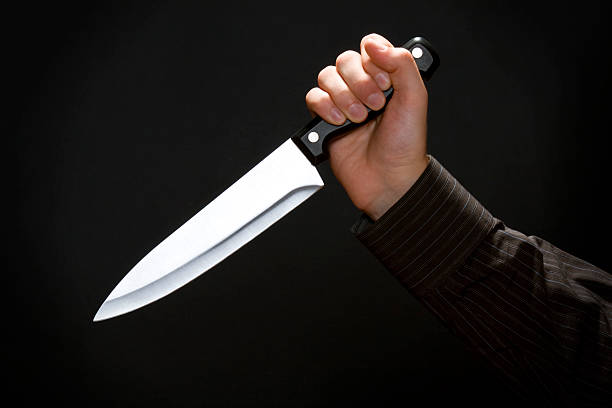knife: (90, 34, 445, 325)
